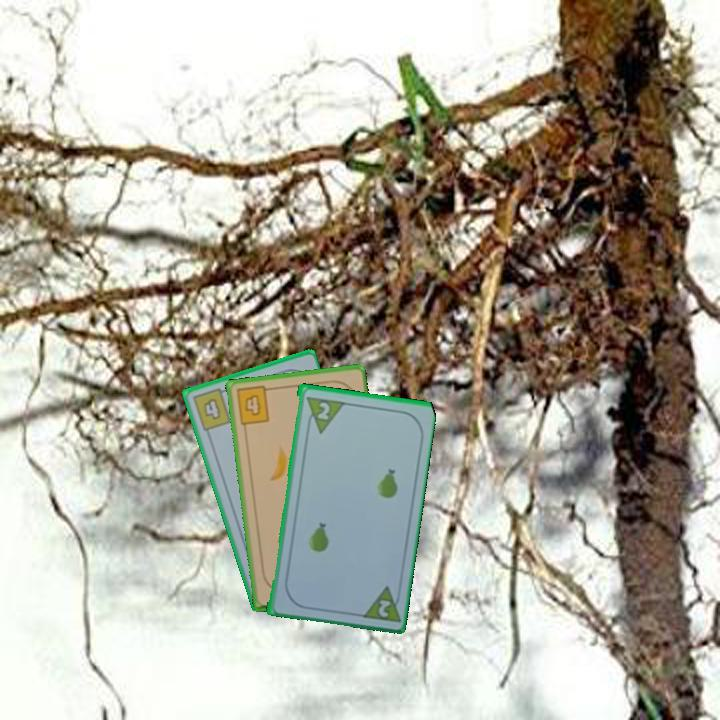2p: (356, 581, 404, 625), (313, 398, 333, 422)
4b: (188, 384, 234, 434), (233, 383, 275, 428)
